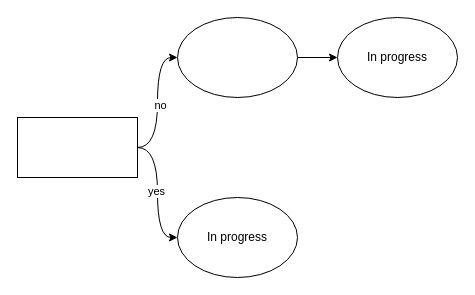
Some shapes in this 475 by 295 pixel diagram are drawn without their labels. The shapes that lost their labels are listed below. From the top down, each one's centre as x and y in pixels, then its label:
At (237,57): "Find out (10 songs)".
At (77,147): "Original audio?".
